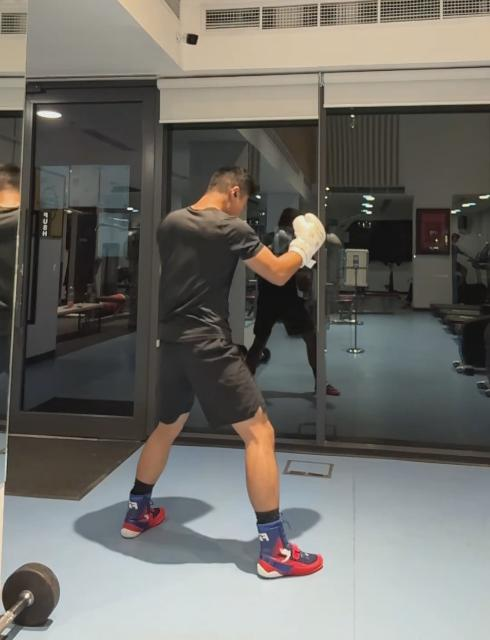punch: (120, 160, 328, 580)
